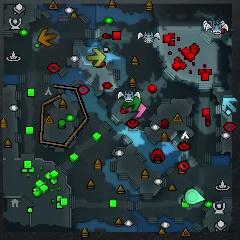p2: (185, 188, 205, 207)
x1: (128, 104, 146, 118)
x2: (87, 48, 105, 67)
x3: (222, 97, 237, 114)
x4: (123, 96, 142, 111)
x5: (38, 29, 57, 47)
